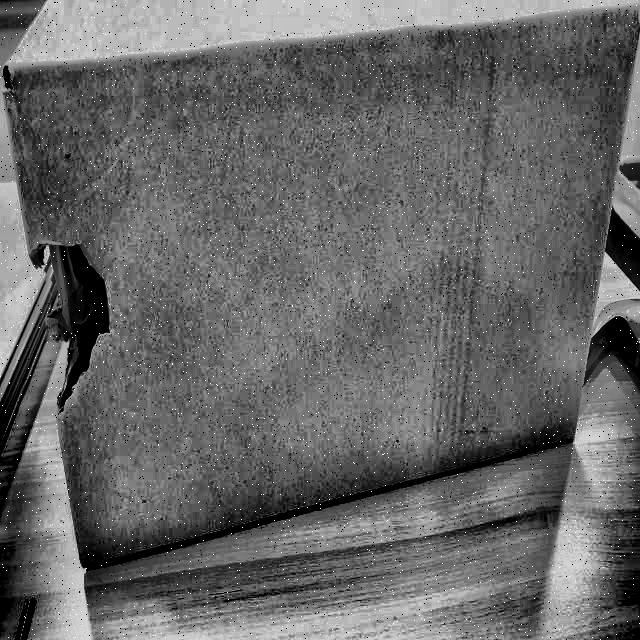box: (0, 0, 639, 578)
hole: (31, 233, 117, 411)
